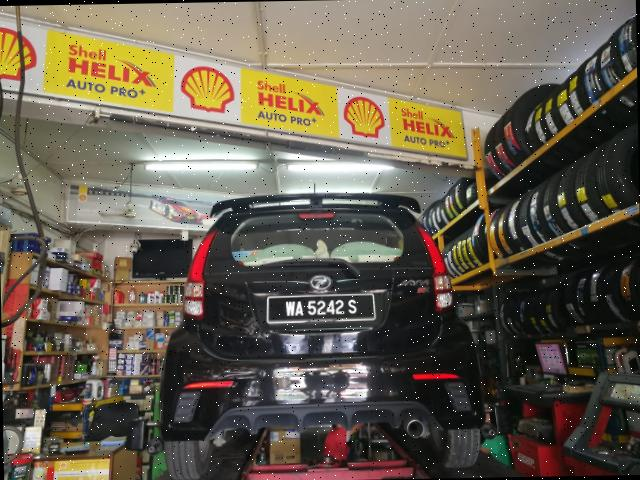License_Plate: (267, 293, 377, 325)
car: (159, 190, 495, 474)
